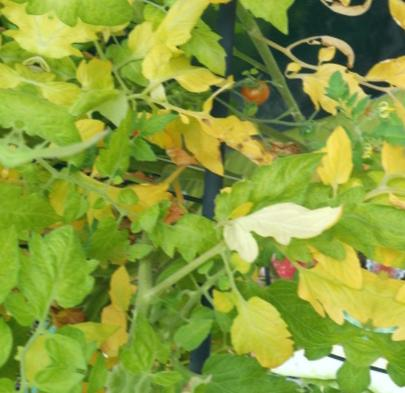Tomato leaf yellow virus: (0, 210, 115, 339), (163, 94, 286, 193), (216, 286, 313, 382), (55, 0, 153, 52), (310, 122, 369, 198)
